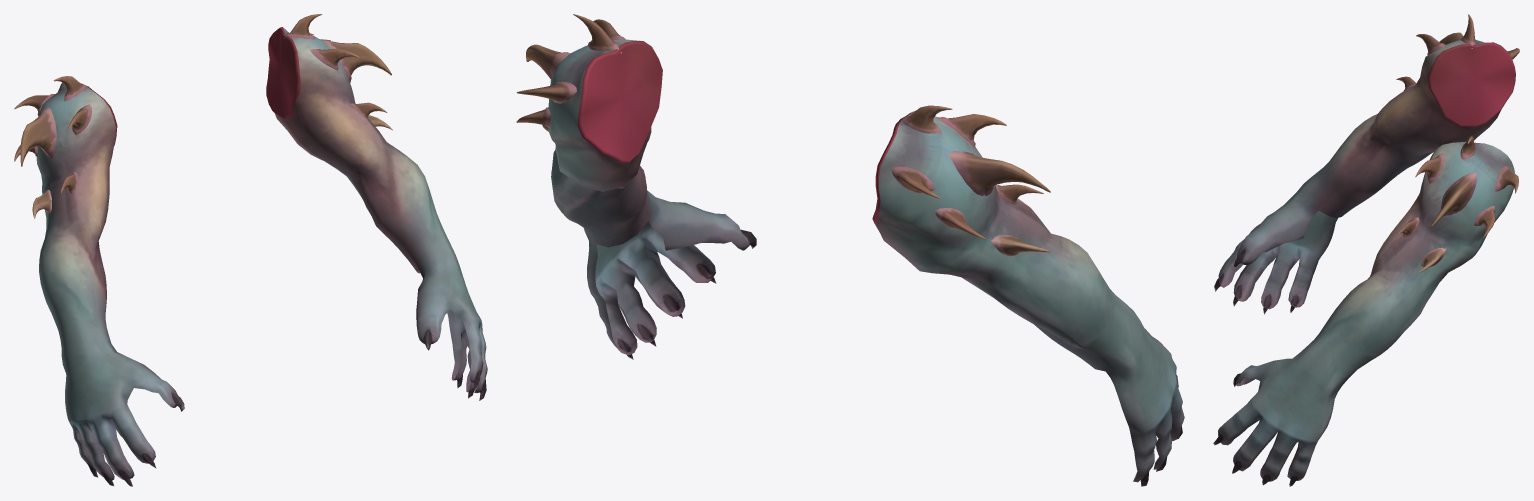
The picture shows the model from 3 angles, left to right: view 1: azimuth 30°, elevation 25°; view 2: azimuth 150°, elevation 25°; view 3: azimuth 270°, elevation 25°; orthographic projection. The views are drawn at different scales.
Parts seen in each view (by area): view 1: SM_Garou_Arms_LOD0; view 2: SM_Garou_Arms_LOD0; view 3: SM_Garou_Arms_LOD0.
Part boxes in pixels (x1,y1,x2,y2): SM_Garou_Arms_LOD0: (14,14,487,486); SM_Garou_Arms_LOD0: (516,14,1184,486); SM_Garou_Arms_LOD0: (1213,14,1519,486).
Bounding box in the file's own units: 0.8762 × 0.6783 × 0.5832.
Materials: 1 (1 with a texture image).
